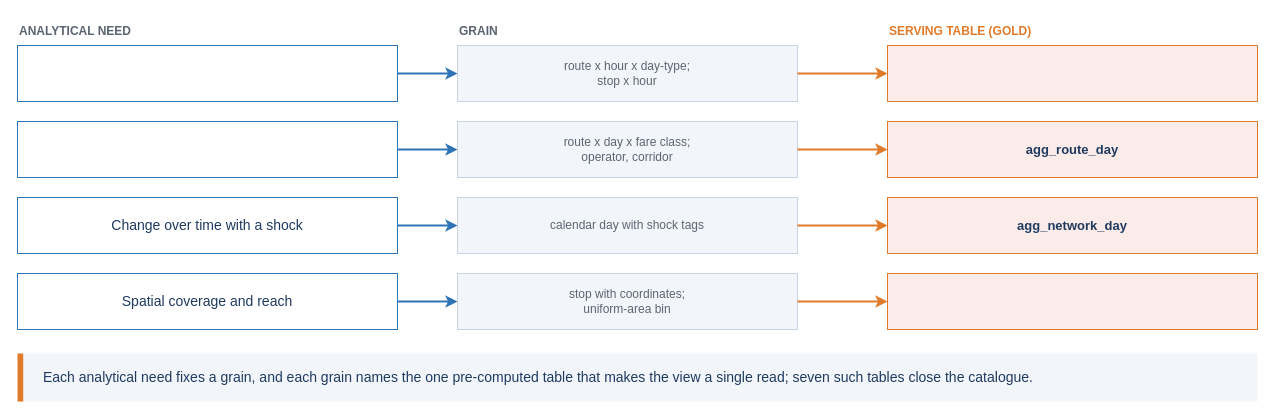
This 1275x418 diagram has some shape labels left out. The shapes that lost their labels are listed below. From the top down, each one's centre as x and y in pixels, then its label:
pixel 207 73: Distribution and crowding over the day
pixel 1072 73: agg_route_hour / agg_stop_hour
pixel 207 149: Rank entities on several attributes
pixel 1072 301: agg_stop_total
